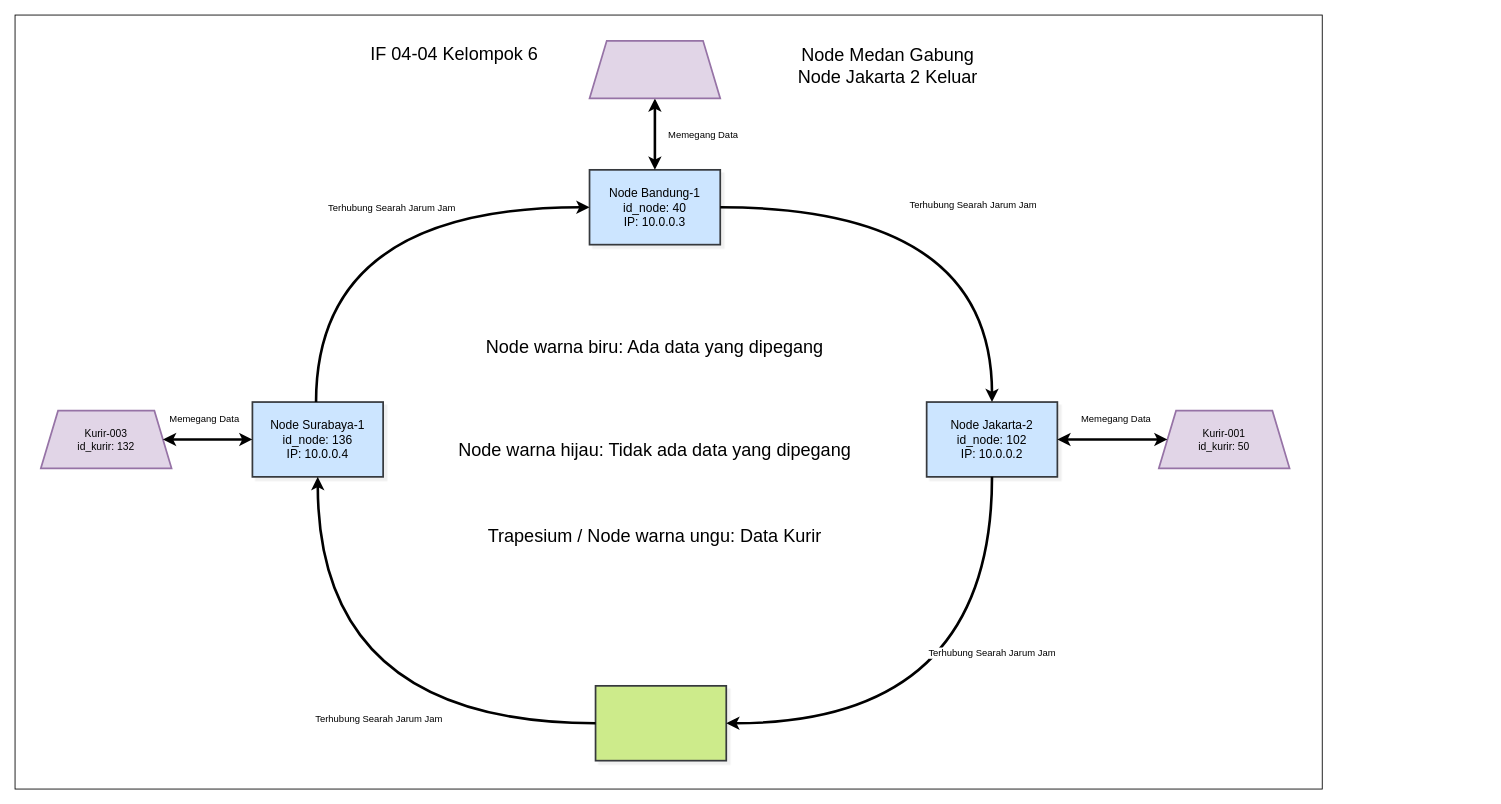
The diagram is 1501 pixels wide and 804 high, and some of its shapes have lost their labels. The centre of each missing label's shape, as x and y in pixels:
"Kurir-002 id_kurir: 28" goes at point 654,69.
"Node Medan-1 id_node: 123 IP: 10.0.0.5" goes at point 662,725.
